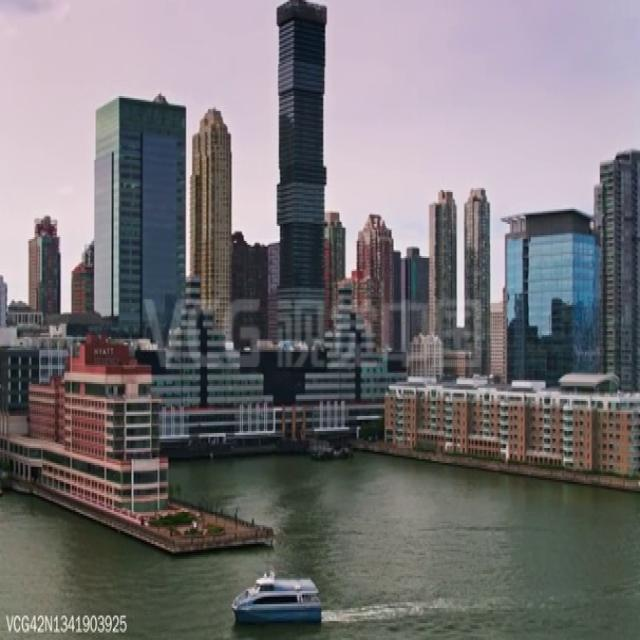houseboat: (227, 564, 325, 627)
